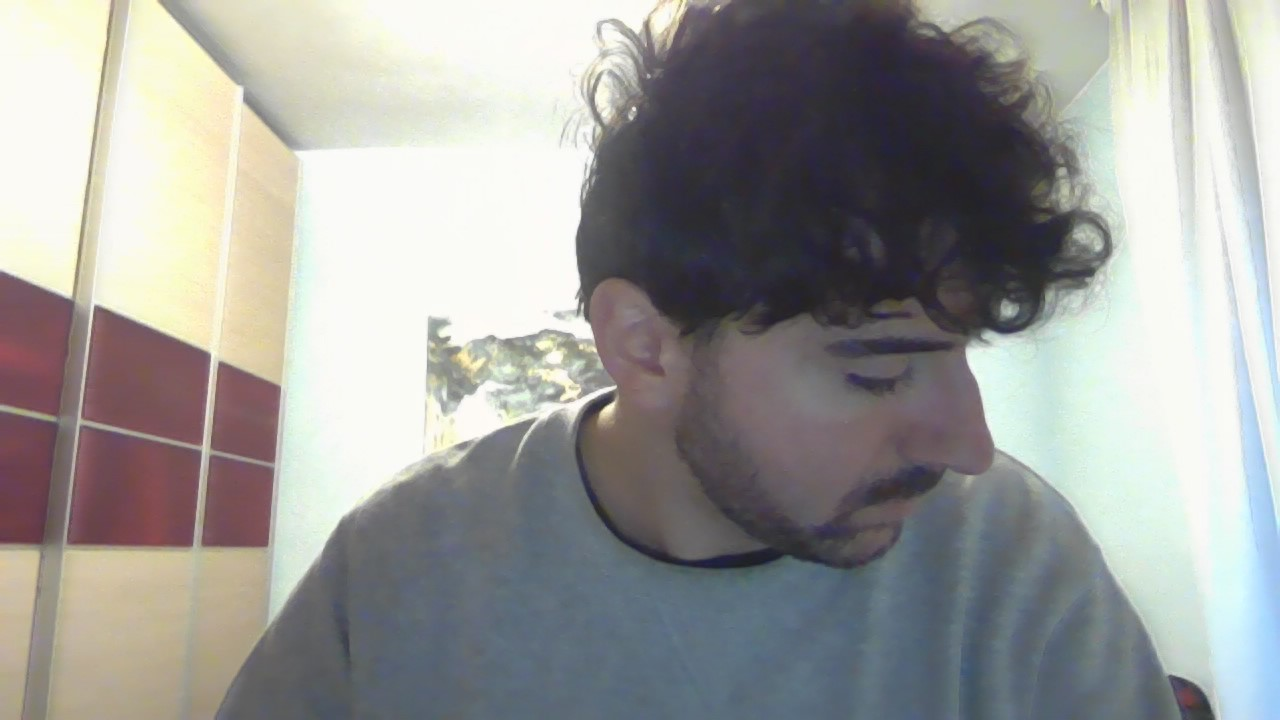NoGlasses: (627, 308, 1028, 416)
